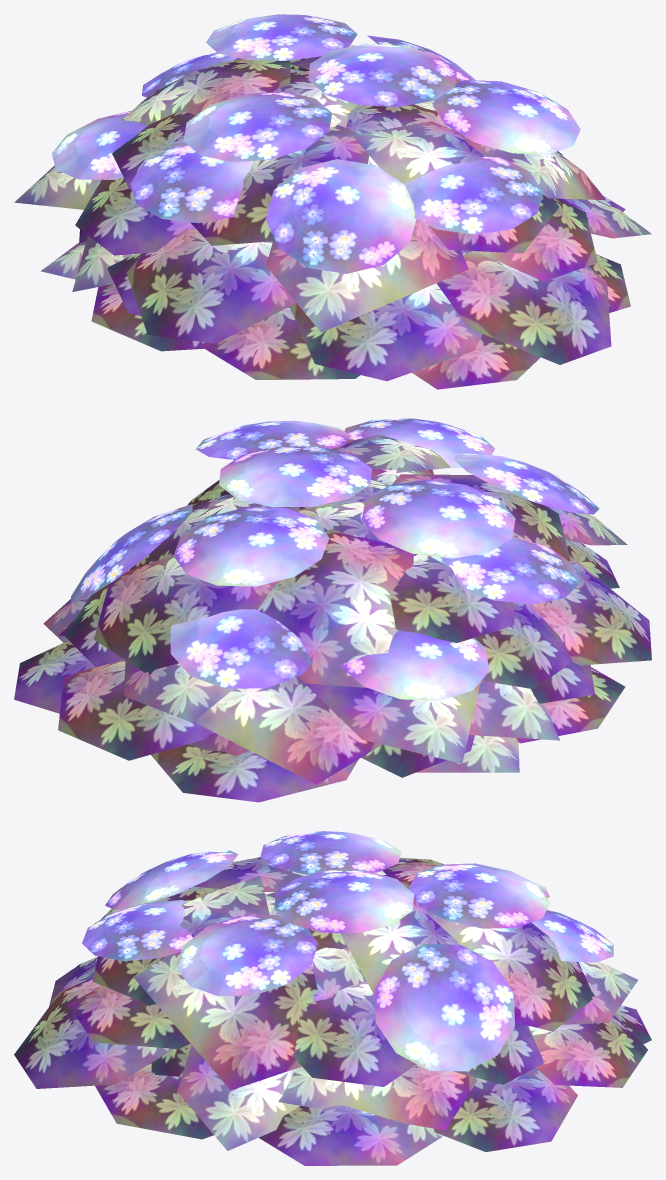
Rendered from geranium_large_SM.fbx.
The picture shows the model from 3 angles, top to bottom: view 1: azimuth 30°, elevation 25°; view 2: azimuth 150°, elevation 25°; view 3: azimuth 270°, elevation 25°; orthographic projection. The views are drawn at different scales.
Parts seen in each view (by area): view 1: geranium_large_SM_LOD0; view 2: geranium_large_SM_LOD0; view 3: geranium_large_SM_LOD0.
Boxes of the visible parts, x1,y1,x2,y2 form: geranium_large_SM_LOD0: (14,14,651,389); geranium_large_SM_LOD0: (14,418,651,802); geranium_large_SM_LOD0: (14,831,651,1165).
Size of the model in its own units: 204 by 232 by 71.84.
2 materials, 2 textured.
